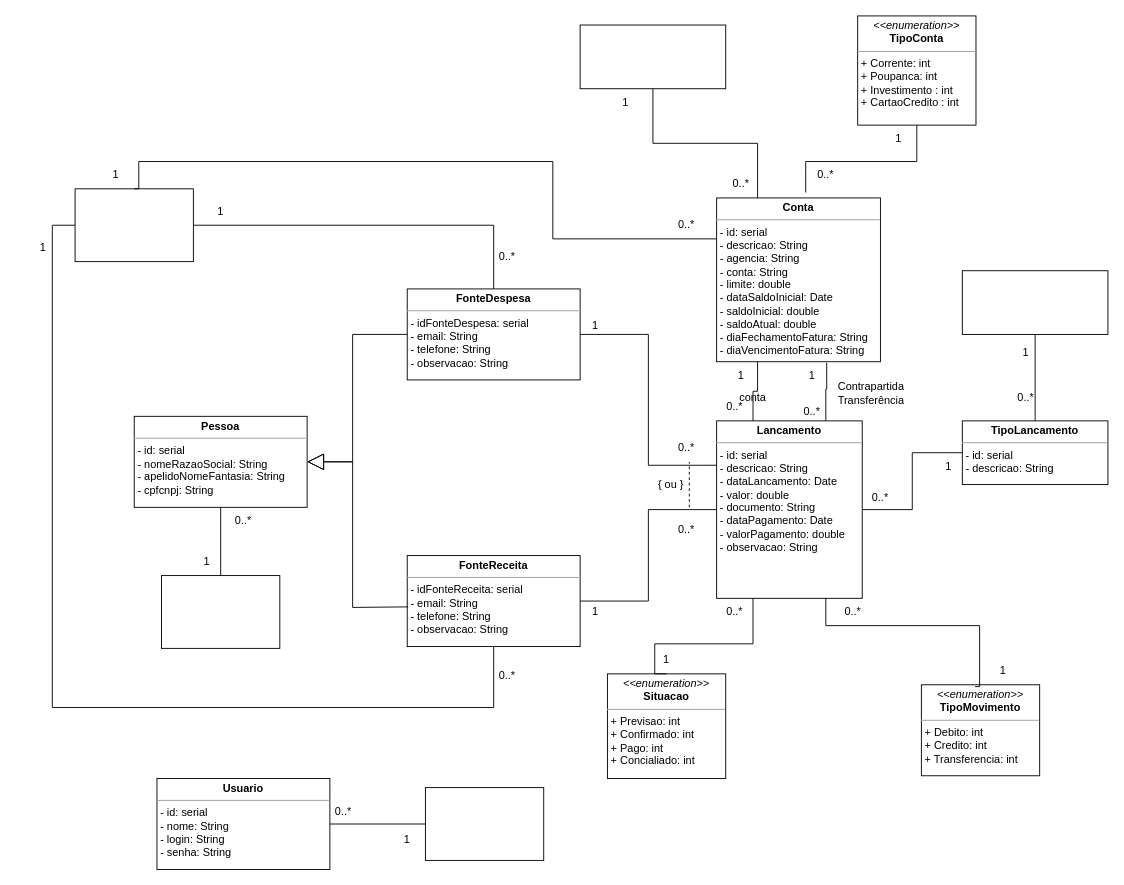
This 1124x885 diagram has some shape labels left out. Each missing label, with the centre of its shape:
<<enumeration>> AtivoInativo + Ativo: int + Inativo: int: the point at 133,225
<<enumeration>> PerfilPessoa + FonteDespesa: int + FonteReceita: int: the point at 220,611
<<enumeration>> PerfilUsuario + Administrador: int + Usuario: int: the point at 484,823
Banco - id: serial - descricao: String: the point at 652,56
GrupoLancamento - id: serial - descricao: String: the point at 1034,302
